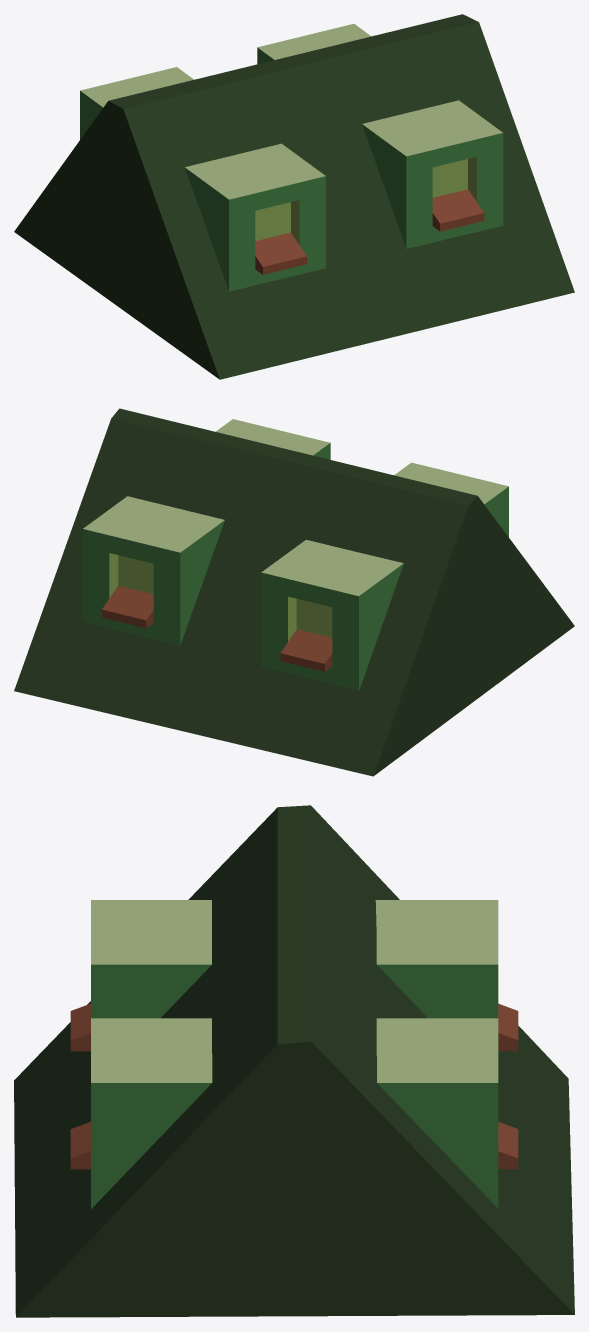
File: Apartment_Roof.fbx
The picture shows the model from 3 angles, top to bottom: view 1: azimuth 30°, elevation 25°; view 2: azimuth 150°, elevation 25°; view 3: azimuth 270°, elevation 25°; orthographic projection. The views are drawn at different scales.
Visible parts, largest first — view 1: Apartment_Roof; view 2: Apartment_Roof; view 3: Apartment_Roof.
Boxes of the visible parts, box(x1,y1,x2,y2) form: Apartment_Roof: box(14, 14, 574, 379); Apartment_Roof: box(14, 408, 574, 776); Apartment_Roof: box(14, 805, 574, 1317).
Bounding box in the file's own units: 47.25 × 25.2 × 46.87.
